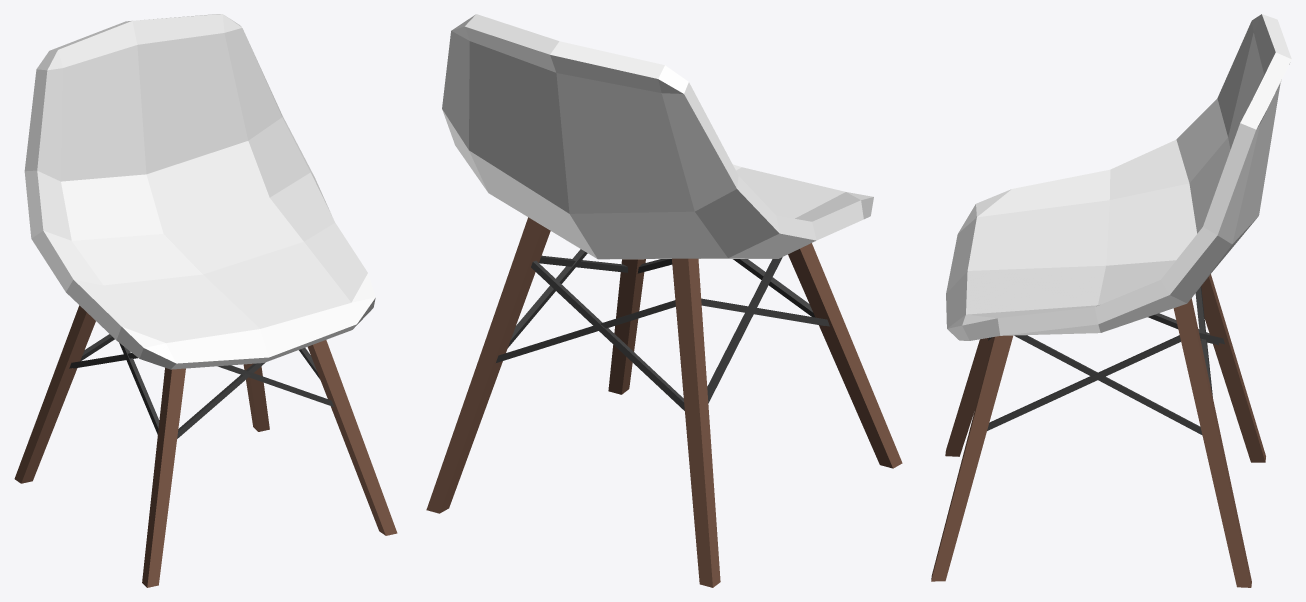
File: Office2_chair.fbx
3 renders of one model, left to right at view 1: azimuth 30°, elevation 25°; view 2: azimuth 150°, elevation 25°; view 3: azimuth 270°, elevation 25°, orthographic. The views are drawn at different scales.
Visible parts, largest first — view 1: Office2_chair; view 2: Office2_chair; view 3: Office2_chair.
Boxes of the visible parts, left/top/right/bottom form: Office2_chair: left=14, top=14, right=397, bottom=587; Office2_chair: left=426, top=14, right=902, bottom=587; Office2_chair: left=931, top=14, right=1291, bottom=587.
Bounding box in the file's own units: 98.51 × 101 × 145.
